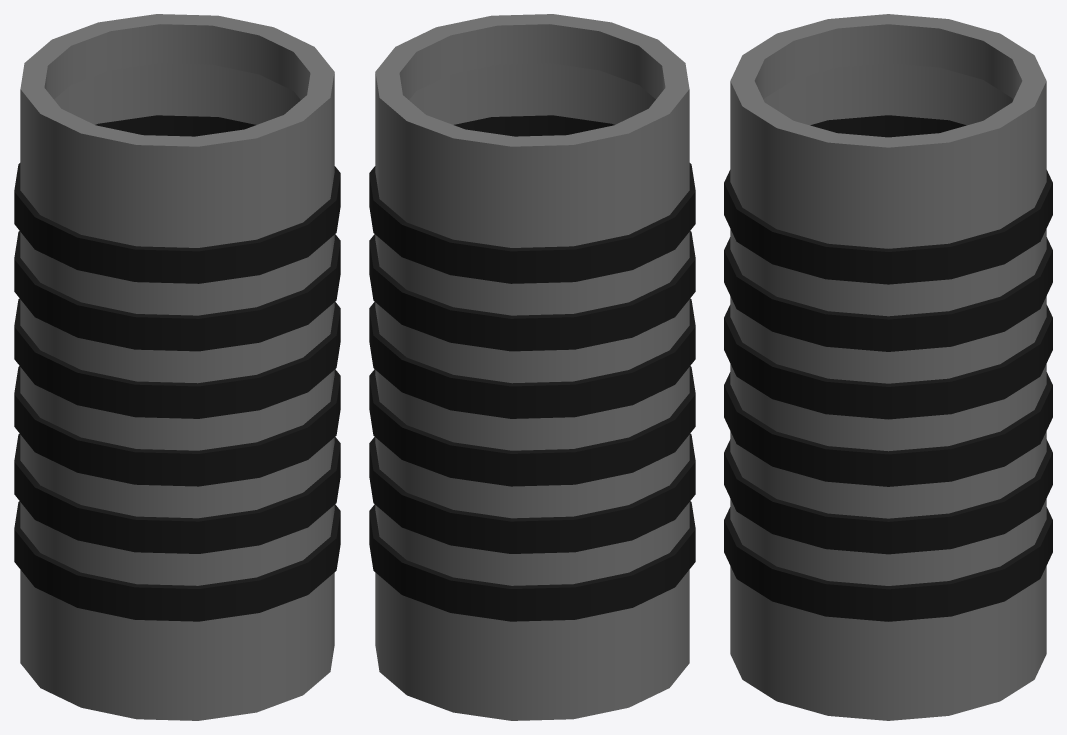
Rendered from Light_HongWaiXian2_off.FBX.
3 views of the same model, side by side, from view 1: azimuth 30°, elevation 25°; view 2: azimuth 150°, elevation 25°; view 3: azimuth 270°, elevation 25° (orthographic).
Parts seen in each view (by area): view 1: Box001; view 2: Box001; view 3: Box001.
Part boxes in pixels (x1,y1,x2,y2): Box001: [14, 14, 340, 720]; Box001: [369, 14, 695, 720]; Box001: [724, 14, 1052, 720].
Size of the model in its own units: 0.5199 by 1 by 0.5199.
